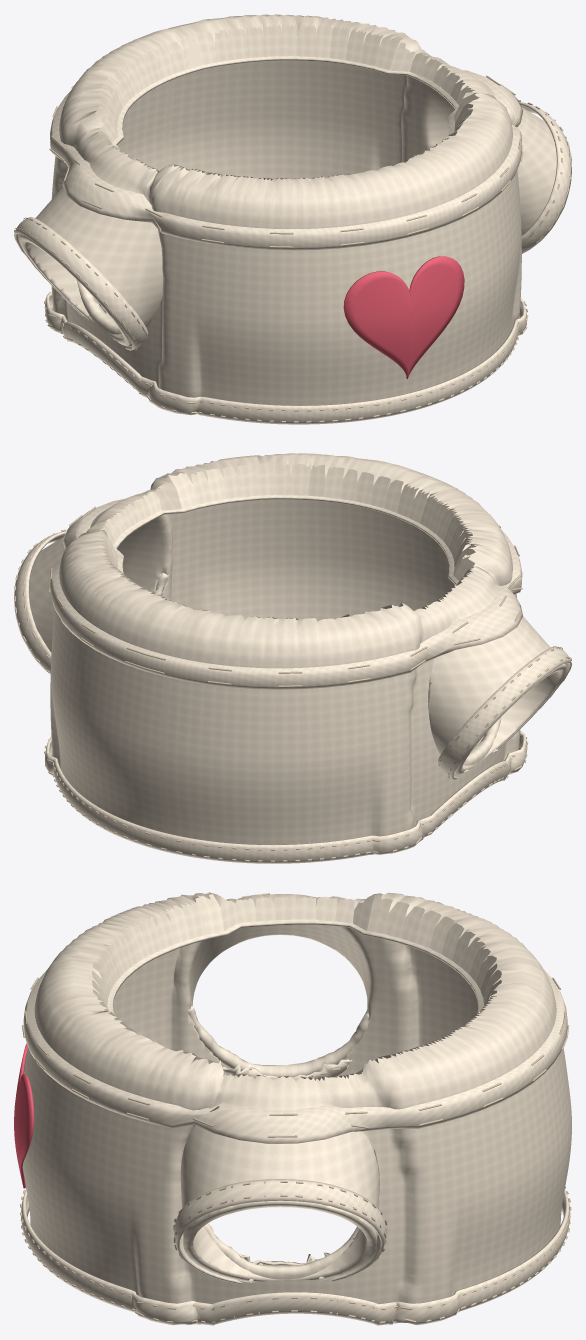
The model's file is original_surface_shirt_penguin.glb.
The picture shows the model from 3 angles, top to bottom: view 1: azimuth 30°, elevation 25°; view 2: azimuth 150°, elevation 25°; view 3: azimuth 270°, elevation 25°; orthographic projection. The views are drawn at different scales.
Visible parts, largest first — view 1: Manga adaptada - Camiseta original continua, Dobladillo ancho adaptado, Dobladillo ancho adaptado.002, CorazÃ³n bordado, Dobladillo ancho adaptado.003, Hilo continuo de acabados, Dobladillo ancho adaptado.001; view 2: Manga adaptada - Camiseta original continua, Dobladillo ancho adaptado, Dobladillo ancho adaptado.002, Dobladillo ancho adaptado.003, Hilo continuo de acabados, Dobladillo ancho adaptado.001; view 3: Manga adaptada - Camiseta original continua, Dobladillo ancho adaptado, Dobladillo ancho adaptado.002, Dobladillo ancho adaptado.001, Hilo continuo de acabados, CorazÃ³n bordado, Dobladillo ancho adaptado.003.
Part boxes in pixels (box(x1,y1,x2,y2)): Manga adaptada - Camiseta original continua: box(18, 14, 556, 405); Dobladillo ancho adaptado: box(50, 56, 523, 250); Dobladillo ancho adaptado.002: box(45, 291, 527, 424); CorazÃ³n bordado: box(343, 256, 464, 378); Dobladillo ancho adaptado.003: box(14, 217, 148, 350); Hilo continuo de acabados: box(14, 75, 571, 422); Dobladillo ancho adaptado.001: box(519, 101, 571, 253); Manga adaptada - Camiseta original continua: box(29, 453, 567, 844); Dobladillo ancho adaptado: box(50, 495, 522, 689); Dobladillo ancho adaptado.002: box(45, 731, 527, 863); Dobladillo ancho adaptado.003: box(438, 646, 571, 779); Hilo continuo de acabados: box(14, 506, 571, 861); Dobladillo ancho adaptado.001: box(14, 531, 66, 674); Manga adaptada - Camiseta original continua: box(22, 892, 571, 1303); Dobladillo ancho adaptado: box(23, 919, 567, 1143); Dobladillo ancho adaptado.002: box(21, 1188, 570, 1325); Dobladillo ancho adaptado.001: box(174, 1179, 386, 1284); Hilo continuo de acabados: box(20, 893, 571, 1323); CorazÃ³n bordado: box(14, 1043, 34, 1188); Dobladillo ancho adaptado.003: box(222, 1059, 352, 1080).
Bounding box in the file's own units: 0.6865 × 0.2894 × 0.5766.
Materials: 3 (1 with a texture image).
